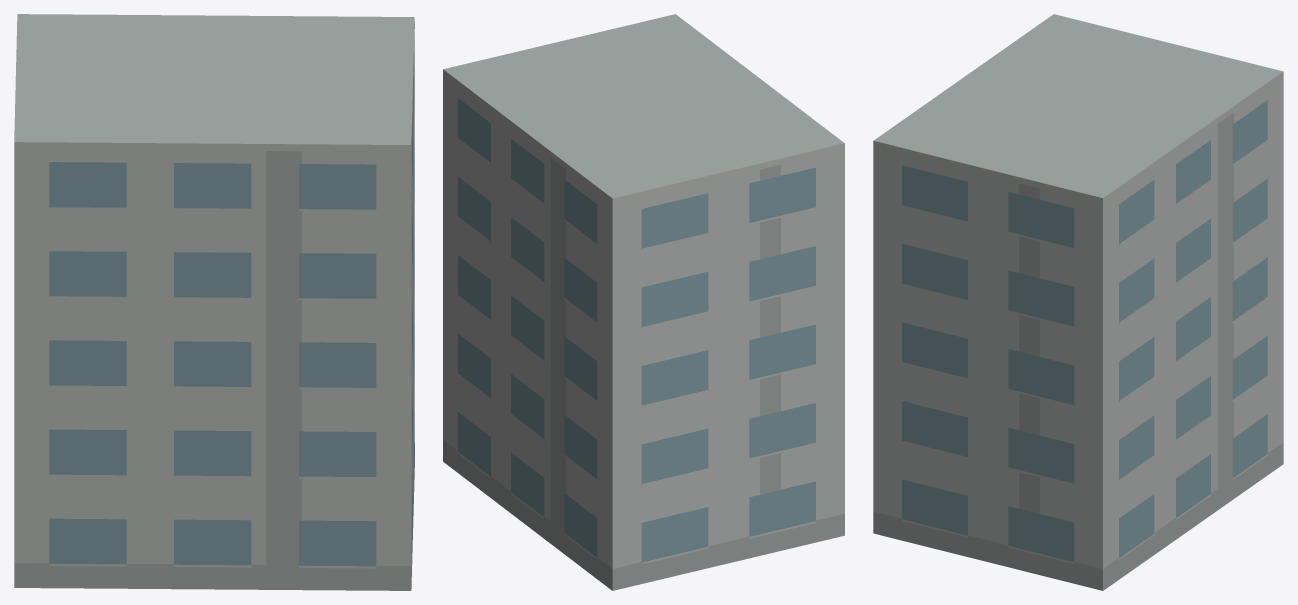
Rendered from survey-upis-32777500.glb.
3 renders of one model, left to right at view 1: azimuth 30°, elevation 25°; view 2: azimuth 150°, elevation 25°; view 3: azimuth 270°, elevation 25°, orthographic. The views are drawn at different scales.
Parts seen in each view (by area): view 1: survey-upis-32777500.tmp; view 2: survey-upis-32777500.tmp; view 3: survey-upis-32777500.tmp.
Boxes of the visible parts, left/top/right/bottom form: survey-upis-32777500.tmp: left=14, top=14, right=414, bottom=590; survey-upis-32777500.tmp: left=443, top=14, right=844, bottom=590; survey-upis-32777500.tmp: left=873, top=14, right=1283, bottom=590.
Size of the model in its own units: 15.4 by 15.3 by 14.49.
